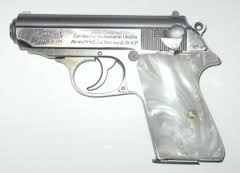pistol: (9, 7, 227, 165)
